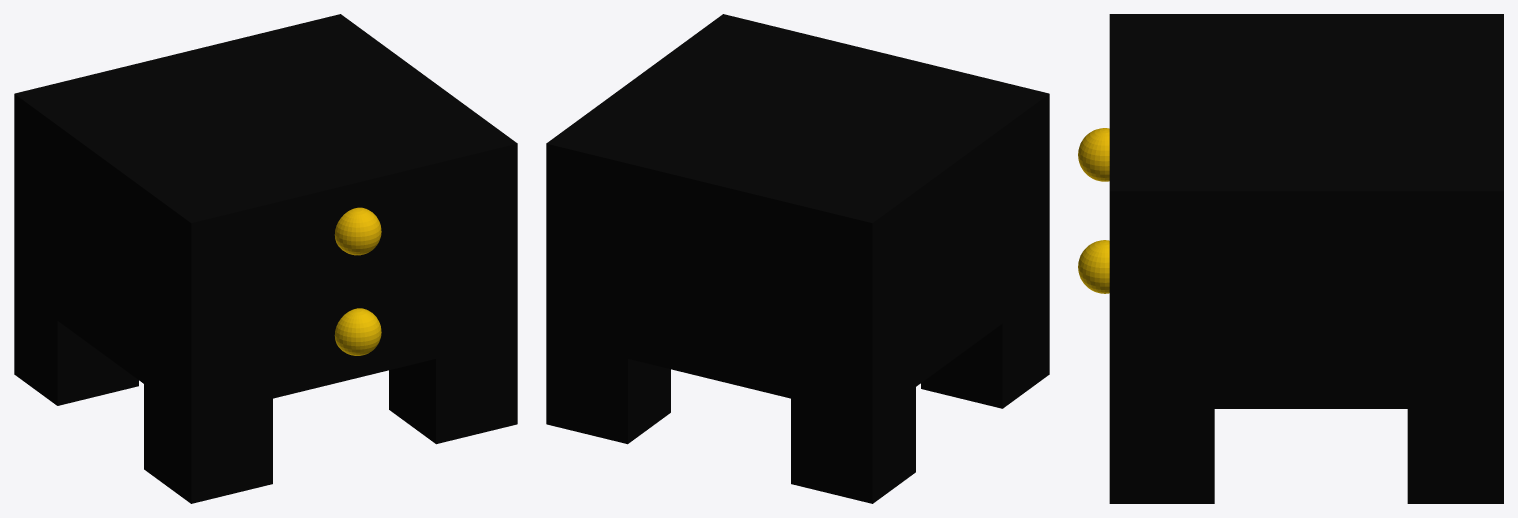
Rendered from nightstand.fbx.
3 renders of one model, left to right at view 1: azimuth 30°, elevation 25°; view 2: azimuth 150°, elevation 25°; view 3: azimuth 270°, elevation 25°, orthographic. The views are drawn at different scales.
Parts seen in each view (by area): view 1: Cube, Sphere, Sphere.001; view 2: Cube; view 3: Cube, Sphere.001, Sphere.
Part boxes in pixels (left/top/right/bottom): Cube: left=14, top=14, right=517, bottom=503; Sphere: left=334, top=207, right=381, bottom=255; Sphere.001: left=334, top=308, right=381, bottom=355; Cube: left=546, top=14, right=1049, bottom=503; Cube: left=1109, top=14, right=1503, bottom=503; Sphere.001: left=1078, top=240, right=1109, bottom=293; Sphere: left=1078, top=128, right=1109, bottom=181.
Bounding box in the file's own units: 800 × 657 × 812.
